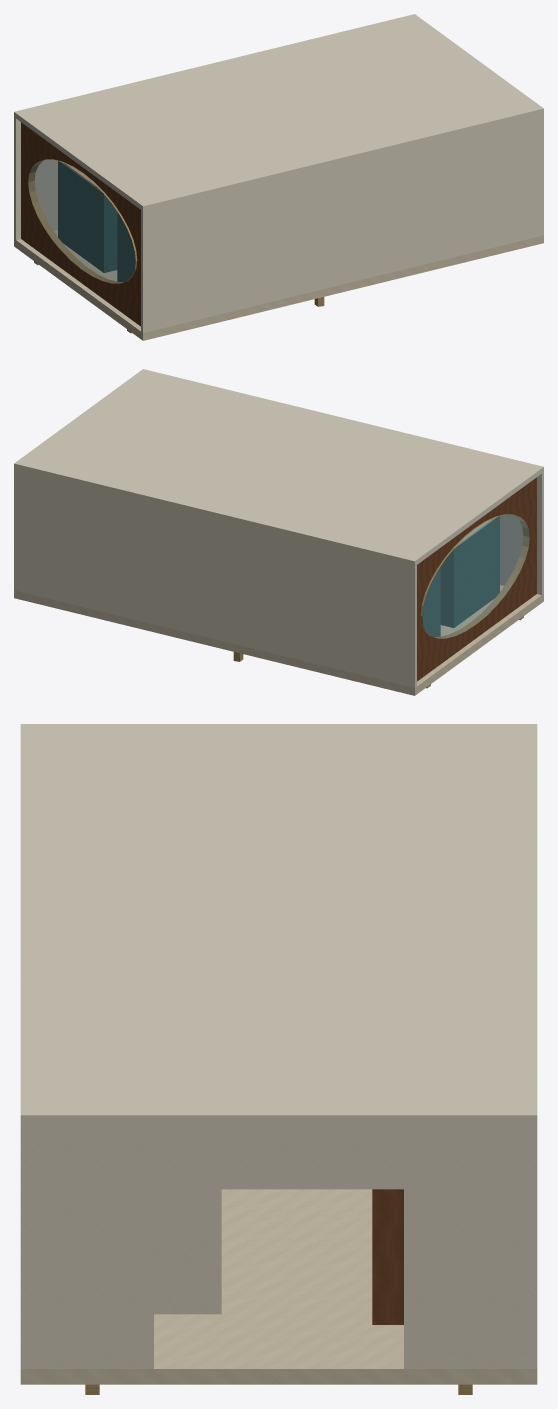
The model's file is NightGardenD15Specialty_542_r002.glb.
3 renders of one model, top to bottom at view 1: azimuth 30°, elevation 25°; view 2: azimuth 150°, elevation 25°; view 3: azimuth 270°, elevation 25°, orthographic. The views are drawn at different scales.
Visible parts, largest first — view 1: NG542_RuntimeBatch_001, NG542_OvalAtriumGlass, NG542_RuntimeBatch_002, NG542_RuntimeBatch_006, NG542_RoomFloor, NG542_RuntimeBatch_004; view 2: NG542_RuntimeBatch_001, NG542_OvalAtriumGlass, NG542_RuntimeBatch_002, NG542_RuntimeBatch_006, NG542_RoomFloor, NG542_RuntimeBatch_004; view 3: NG542_RuntimeBatch_001, NG542_RoomFloor, NG542_RuntimeBatch_002.
Part boxes in pixels (x1,y1,x2,y2): NG542_RuntimeBatch_001: (14,14,543,332); NG542_OvalAtriumGlass: (28,160,135,283); NG542_RuntimeBatch_002: (21,122,140,326); NG542_RuntimeBatch_006: (58,161,135,281); NG542_RoomFloor: (14,230,543,340); NG542_RuntimeBatch_004: (28,159,324,333); NG542_RuntimeBatch_001: (14,369,543,687); NG542_OvalAtriumGlass: (422,515,529,638); NG542_RuntimeBatch_002: (417,477,536,681); NG542_RuntimeBatch_006: (422,516,499,636); NG542_RoomFloor: (14,585,543,695); NG542_RuntimeBatch_004: (233,514,529,688); NG542_RuntimeBatch_001: (20,724,537,1368); NG542_RoomFloor: (20,1189,537,1384); NG542_RuntimeBatch_002: (372,1189,403,1324).
Bounding box in the file's own units: 12.9 × 4.91 × 7.2.
67 materials, 43 textured.
